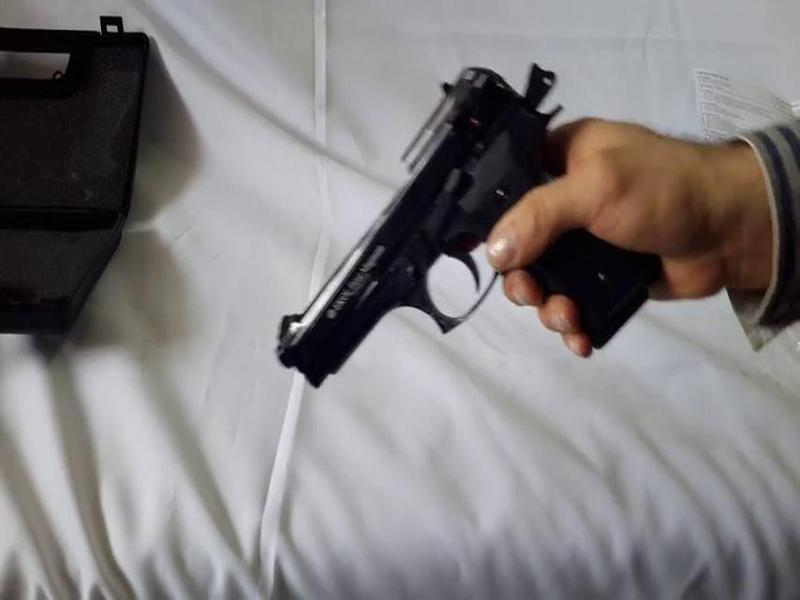Pistola: (228, 65, 657, 394)
